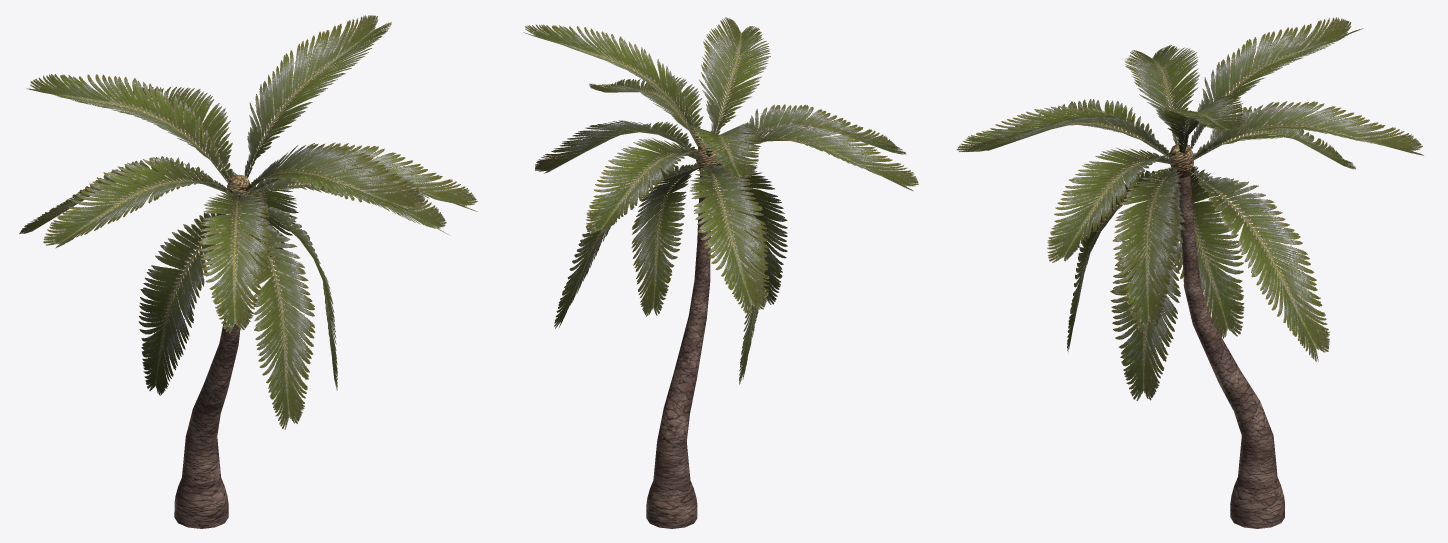
Rendered from PalmTree2.fbx.
3 views of the same model, side by side, from view 1: azimuth 30°, elevation 25°; view 2: azimuth 150°, elevation 25°; view 3: azimuth 270°, elevation 25° (orthographic). The views are drawn at different scales.
Parts seen in each view (by area): view 1: pasted__pCylinder2; view 2: pasted__pCylinder2; view 3: pasted__pCylinder2.
Part boxes in pixels (<box>): pasted__pCylinder2: <box>19,15,477,528</box>; pasted__pCylinder2: <box>523,17,918,528</box>; pasted__pCylinder2: <box>956,17,1423,528</box>.
Bounding box in the file's own units: 300 × 326 × 299.
2 materials, 2 textured.
